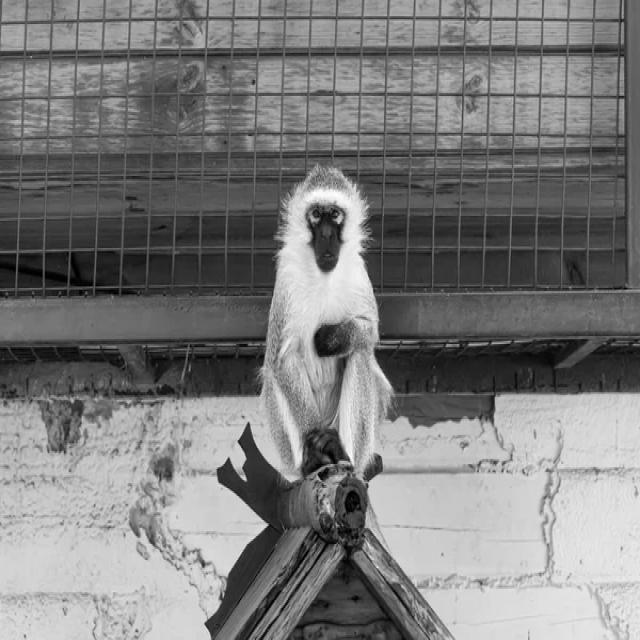Animal: (261, 166, 394, 478)
